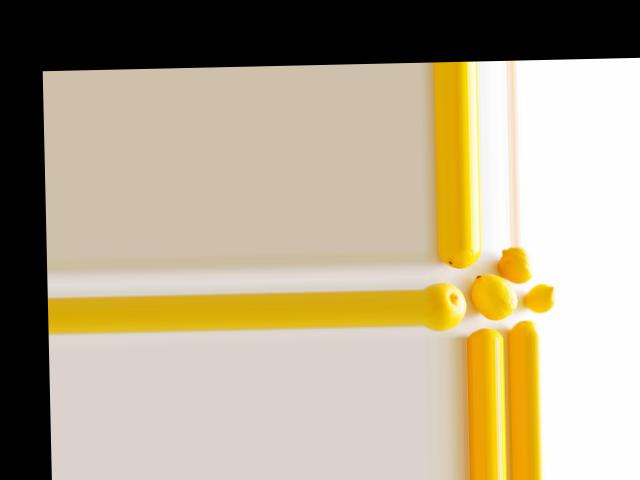lemon: (444, 246, 487, 273)
